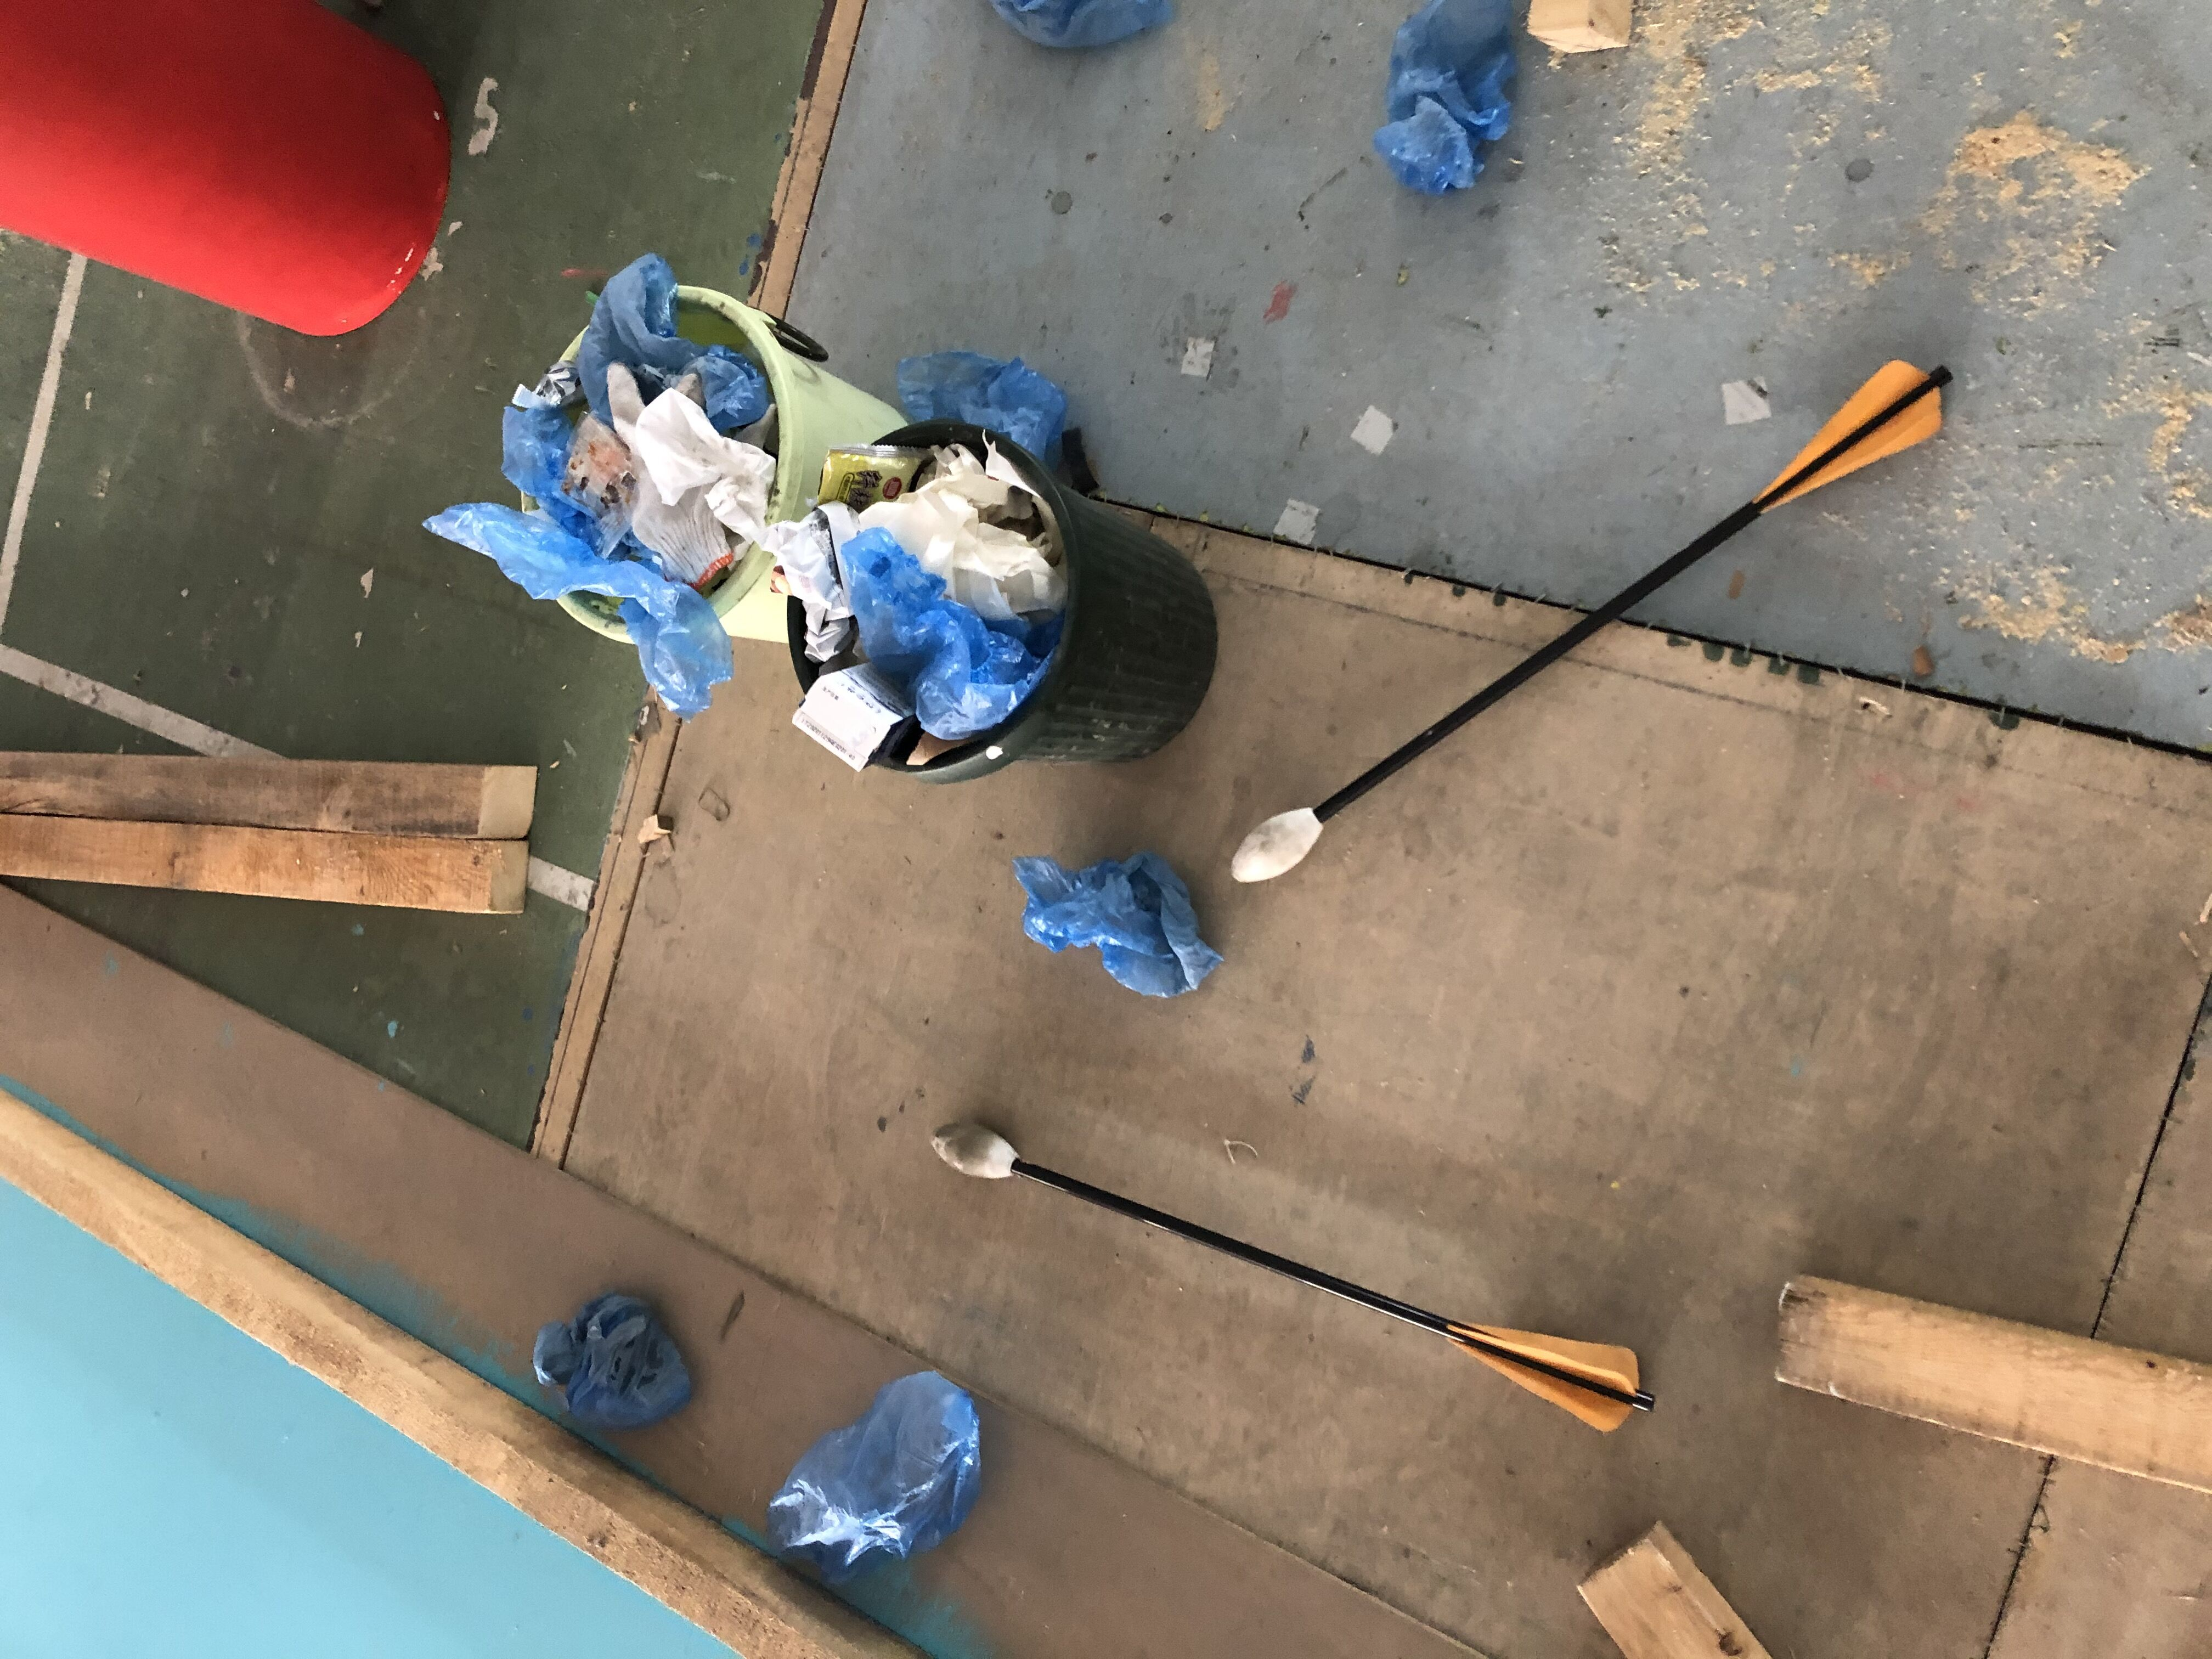arrow: (1231, 362, 1952, 882), (927, 1117, 1660, 1434)
arrowFront: (1230, 805, 1329, 882), (925, 1119, 1021, 1180)
